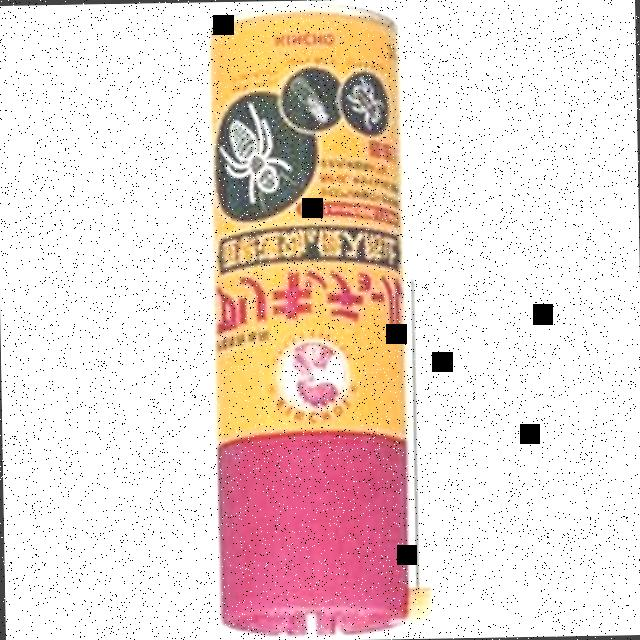chemical_spray_can: (187, 0, 443, 639)
